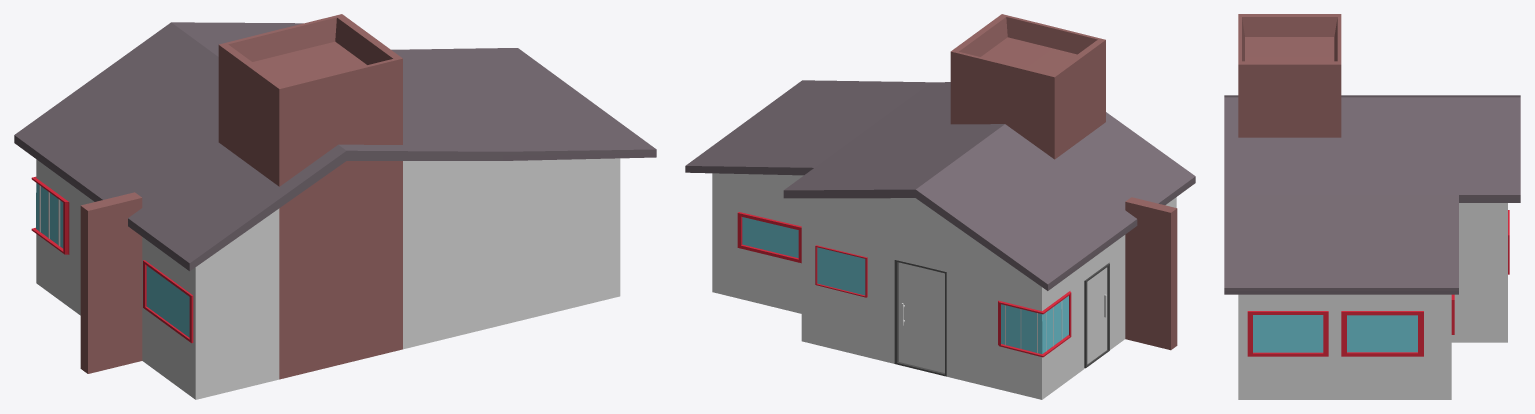
Rendered from CASA .fbx.
The picture shows the model from 3 angles, left to right: view 1: azimuth 30°, elevation 25°; view 2: azimuth 150°, elevation 25°; view 3: azimuth 270°, elevation 25°; orthographic projection. The views are drawn at different scales.
Visible parts, largest first — view 1: Cube.002; view 2: Cube.002; view 3: Cube.002.
Boxes of the visible parts, box(x1,y1,x2,y2) form: Cube.002: box(14, 14, 656, 399); Cube.002: box(685, 14, 1195, 399); Cube.002: box(1224, 14, 1520, 399).
Size of the model in its own units: 5375 by 2947 by 3222.
